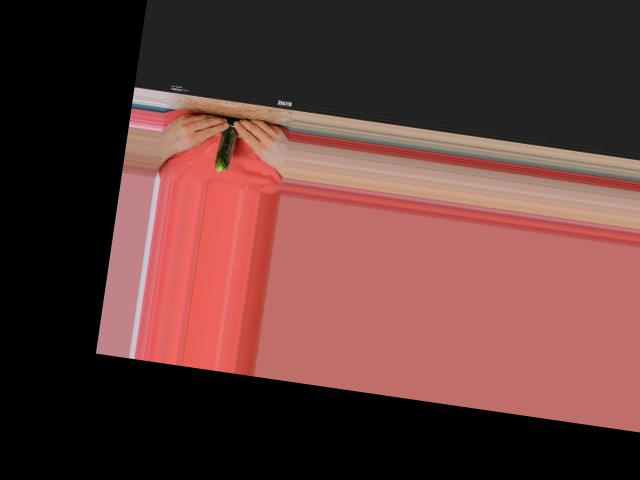cucumber: (213, 115, 238, 172)
